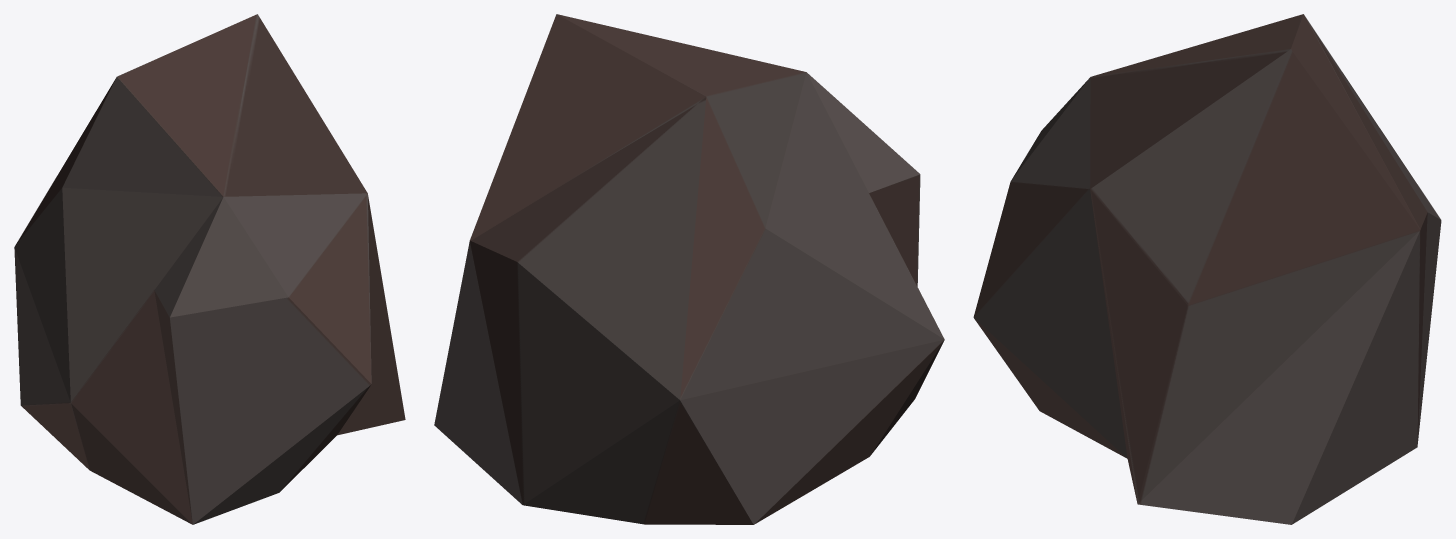
File: Rock_Iteration_4.obj
3 renders of one model, left to right at view 1: azimuth 30°, elevation 25°; view 2: azimuth 150°, elevation 25°; view 3: azimuth 270°, elevation 25°, orthographic. The views are drawn at different scales.
Visible parts, largest first — view 1: Rock_Iteration_4; view 2: Rock_Iteration_4; view 3: Rock_Iteration_4.
Part boxes in pixels (x1,y1,x2,y2): Rock_Iteration_4: (14, 14, 405, 524); Rock_Iteration_4: (434, 14, 944, 524); Rock_Iteration_4: (973, 14, 1441, 524).
Size of the model in its own units: 120 by 119 by 121.
